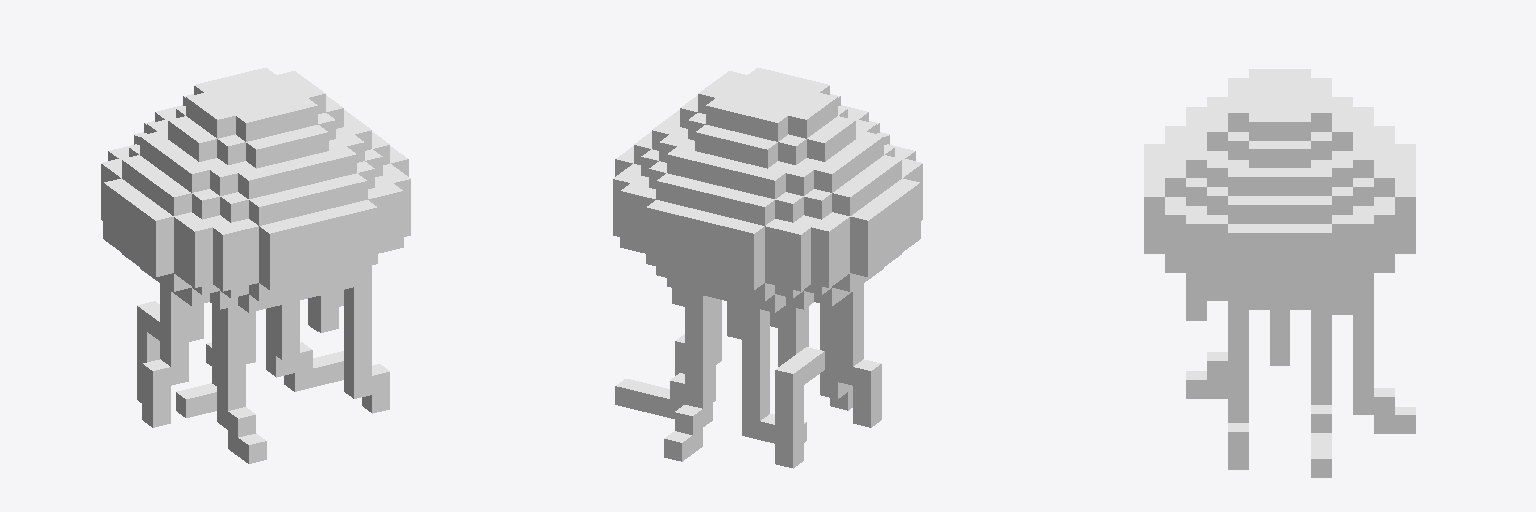
File: alien2.obj
3 views of the same model, side by side, from view 1: azimuth 30°, elevation 25°; view 2: azimuth 150°, elevation 25°; view 3: azimuth 270°, elevation 25° (orthographic).
Parts seen in each view (by area): view 1: object 1; view 2: object 1; view 3: object 1.
Boxes of the visible parts, x1,y1,x2,y2 form: object 1: [101, 68, 410, 463]; object 1: [613, 68, 922, 468]; object 1: [1144, 69, 1415, 477].
Bounding box in the file's own units: 1.4 × 1.7 × 1.3.